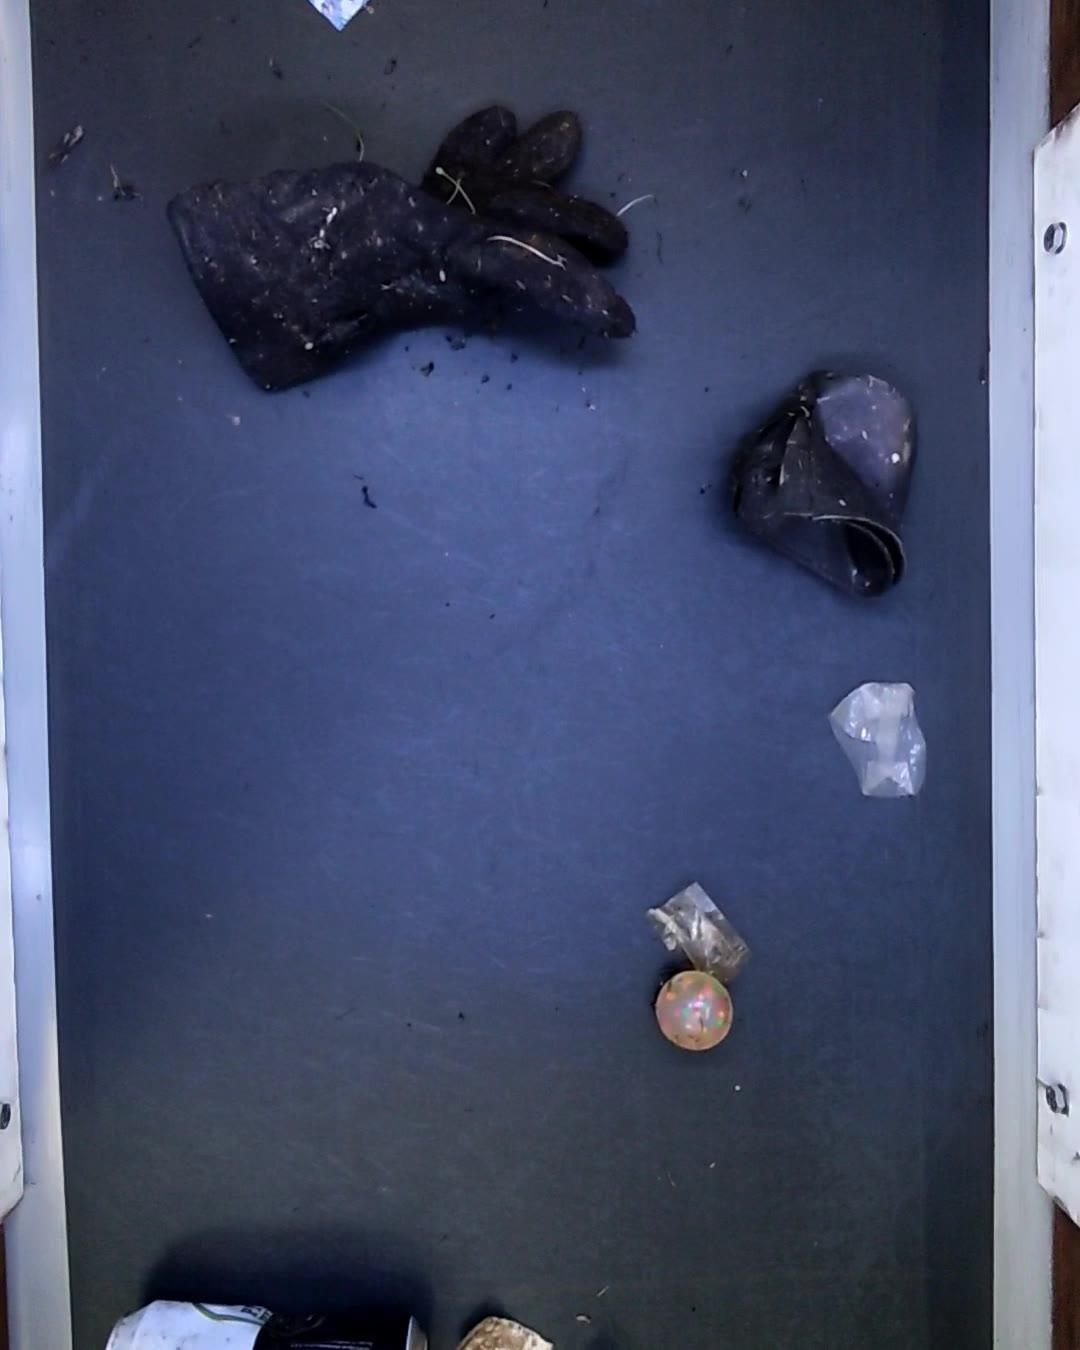Drankblikjes: (101, 1302, 433, 1350)
Plastic folies of stukken daarvan 2.5- 50 cm: (833, 681, 928, 802), (654, 876, 750, 984)
